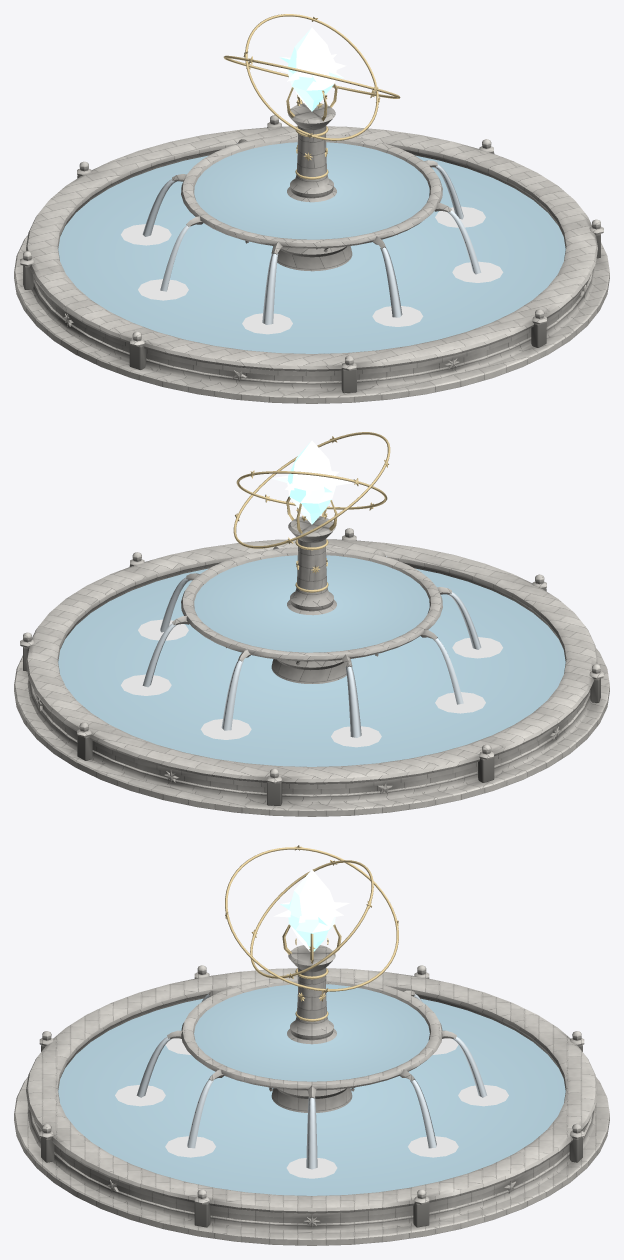
Rendered from fountain_lite.glb.
The picture shows the model from 3 angles, top to bottom: view 1: azimuth 30°, elevation 25°; view 2: azimuth 150°, elevation 25°; view 3: azimuth 270°, elevation 25°; orthographic projection.
Visible parts, largest first — view 1: WishFountain_water, WishFountain_stone, WishFountain_foam, WishFountain_falls, WishFountain_gold, WishFountain_crystal; view 2: WishFountain_water, WishFountain_stone, WishFountain_foam, WishFountain_falls, WishFountain_gold, WishFountain_crystal; view 3: WishFountain_water, WishFountain_stone, WishFountain_foam, WishFountain_gold, WishFountain_falls, WishFountain_crystal.
Part boxes in pixels (box(x1,y1,x2,y2)): WishFountain_water: box(58, 142, 565, 353); WishFountain_stone: box(14, 103, 609, 403); WishFountain_foam: box(121, 206, 503, 334); WishFountain_falls: box(142, 143, 481, 324); WishFountain_gold: box(223, 14, 400, 179); WishFountain_crystal: box(278, 27, 346, 111); WishFountain_water: box(58, 555, 565, 766); WishFountain_stone: box(14, 516, 609, 816); WishFountain_foam: box(121, 619, 502, 747); WishFountain_falls: box(142, 556, 481, 737); WishFountain_gold: box(233, 432, 390, 592); WishFountain_crystal: box(271, 440, 352, 524); WishFountain_water: box(58, 984, 565, 1195); WishFountain_stone: box(14, 945, 609, 1245); WishFountain_foam: box(115, 1038, 508, 1178); WishFountain_gold: box(225, 845, 398, 1021); WishFountain_falls: box(136, 994, 487, 1169); WishFountain_crystal: box(273, 869, 349, 951).
Size of the model in its own units: 14 by 6.5 by 14.
Materials: 6 (1 with a texture image).
